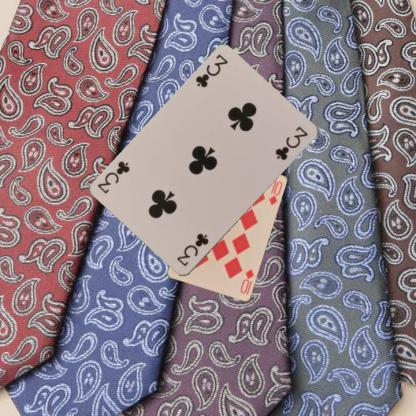10d: (237, 266, 255, 295)
3c: (193, 52, 229, 90), (174, 231, 210, 268)
